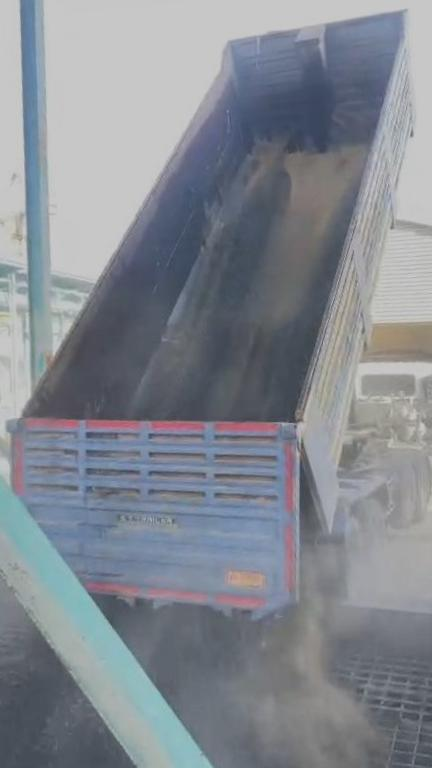gravel: (102, 600, 374, 768), (132, 149, 290, 420), (0, 632, 197, 768)
